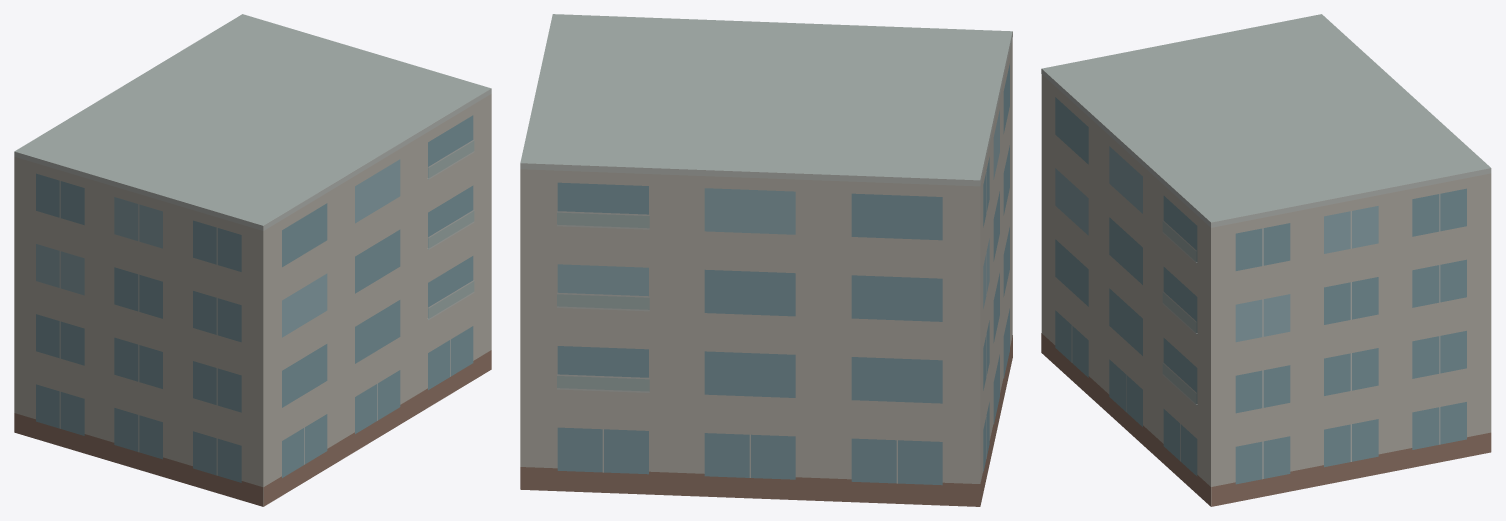
The model's file is survey-upis-32800762.glb.
3 views of the same model, side by side, from view 1: azimuth 30°, elevation 25°; view 2: azimuth 150°, elevation 25°; view 3: azimuth 270°, elevation 25° (orthographic). The views are drawn at different scales.
Parts seen in each view (by area): view 1: survey-upis-32800762.tmp; view 2: survey-upis-32800762.tmp; view 3: survey-upis-32800762.tmp.
Part boxes in pixels (box(x1,y1,x2,y2)): survey-upis-32800762.tmp: box(14, 14, 491, 506); survey-upis-32800762.tmp: box(520, 14, 1012, 506); survey-upis-32800762.tmp: box(1041, 14, 1491, 506).
Bounding box in the file's own units: 20.79 × 13.2 × 18.94.
